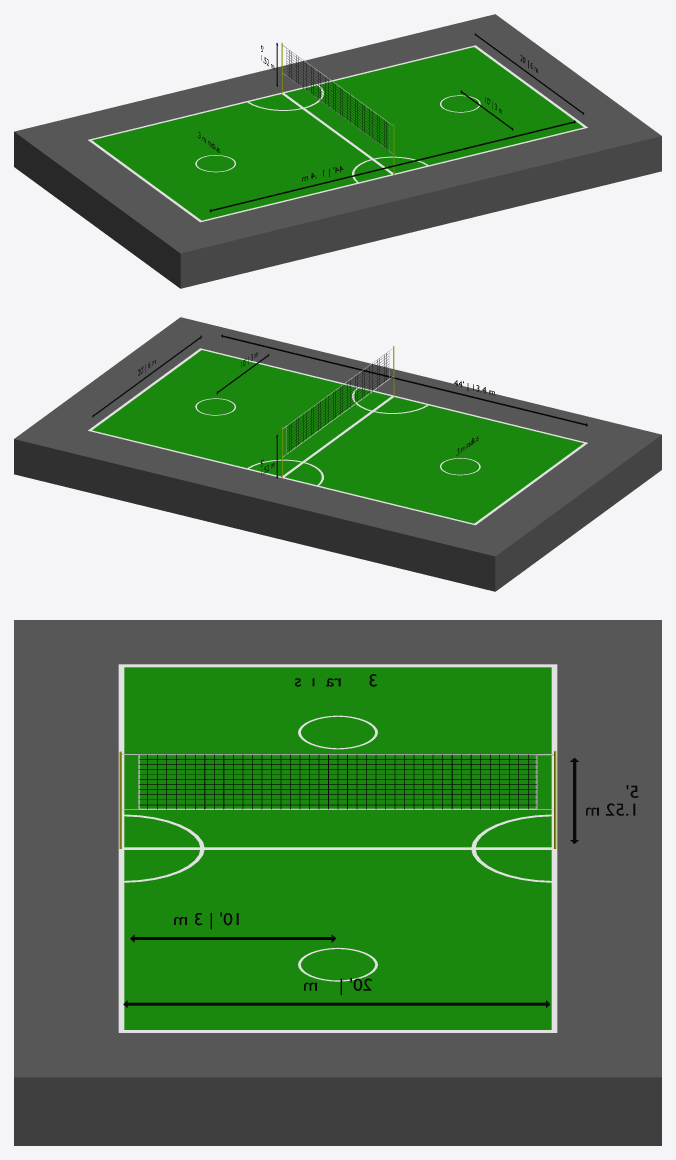
File: sepak.fbx
3 views of the same model, one above another, from view 1: azimuth 30°, elevation 25°; view 2: azimuth 150°, elevation 25°; view 3: azimuth 270°, elevation 25° (orthographic). The views are drawn at different scales.
Parts seen in each view (by area): view 1: Cube.001, net.001, Plane.010; view 2: Cube.001, net.001, Plane.010; view 3: Cube.001, net.001, Plane.001.
Part boxes in pixels (<box>): Cube.001: <box>14,14,661,288</box>; net.001: <box>281,42,394,174</box>; Plane.010: <box>209,120,575,212</box>; Cube.001: <box>14,317,661,591</box>; net.001: <box>281,346,394,477</box>; Plane.010: <box>221,334,587,426</box>; Cube.001: <box>14,620,661,1145</box>; net.001: <box>119,750,556,848</box>; Plane.001: <box>123,1000,550,1007</box>.
Bounding box in the file's own units: 5510 × 935 × 3301.
